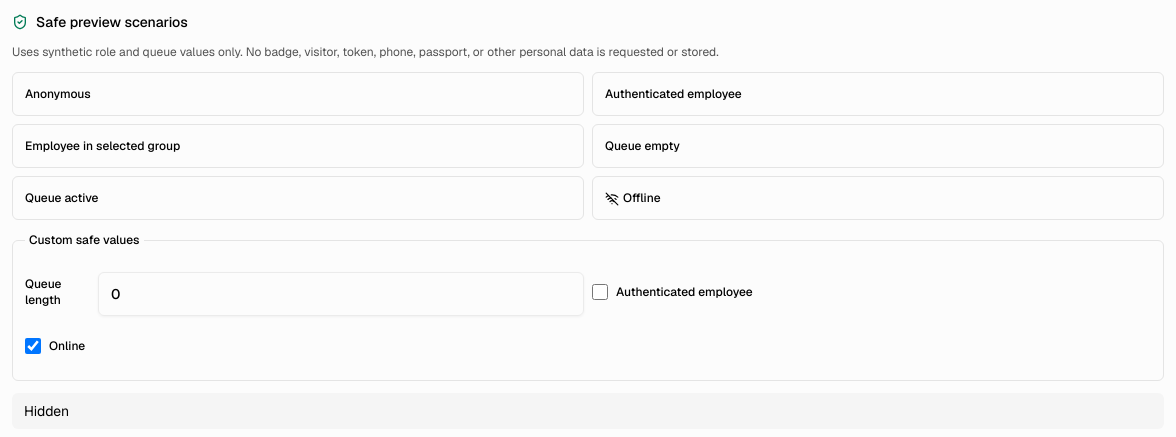
Test case: condition preview scenarios › derives the employee-group scenario from the current policy without accepting arbitrary groups
Click the button "Employee in selected group". click: [103, 146]
box: [12, 124, 584, 168]
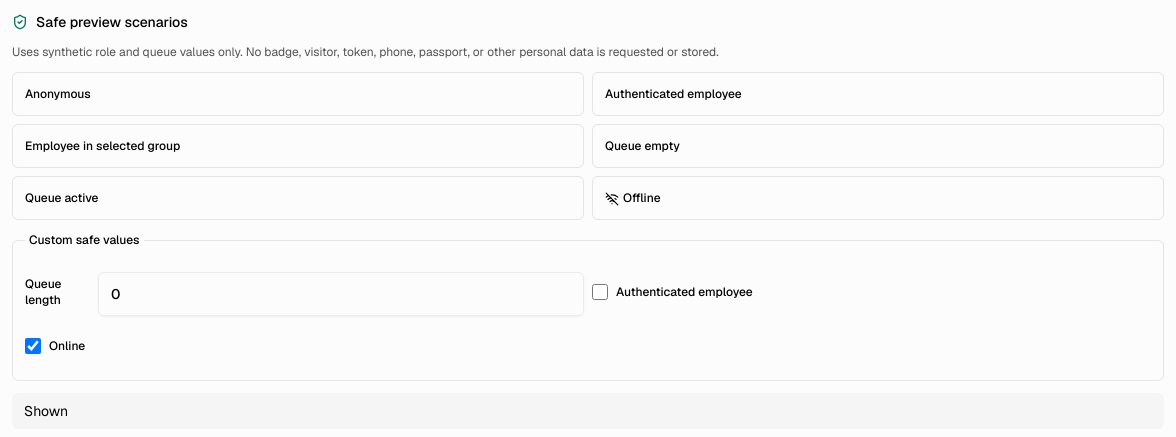
Expected: the message reads "Shown", [24, 402, 68, 420]
